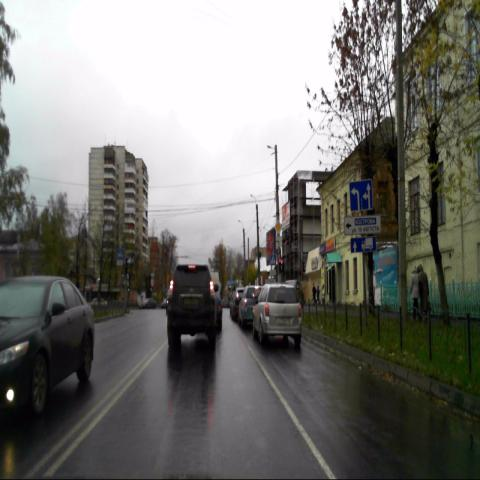5_15_2_2: (350, 180, 373, 212)
6_15_1: (351, 236, 376, 252)
